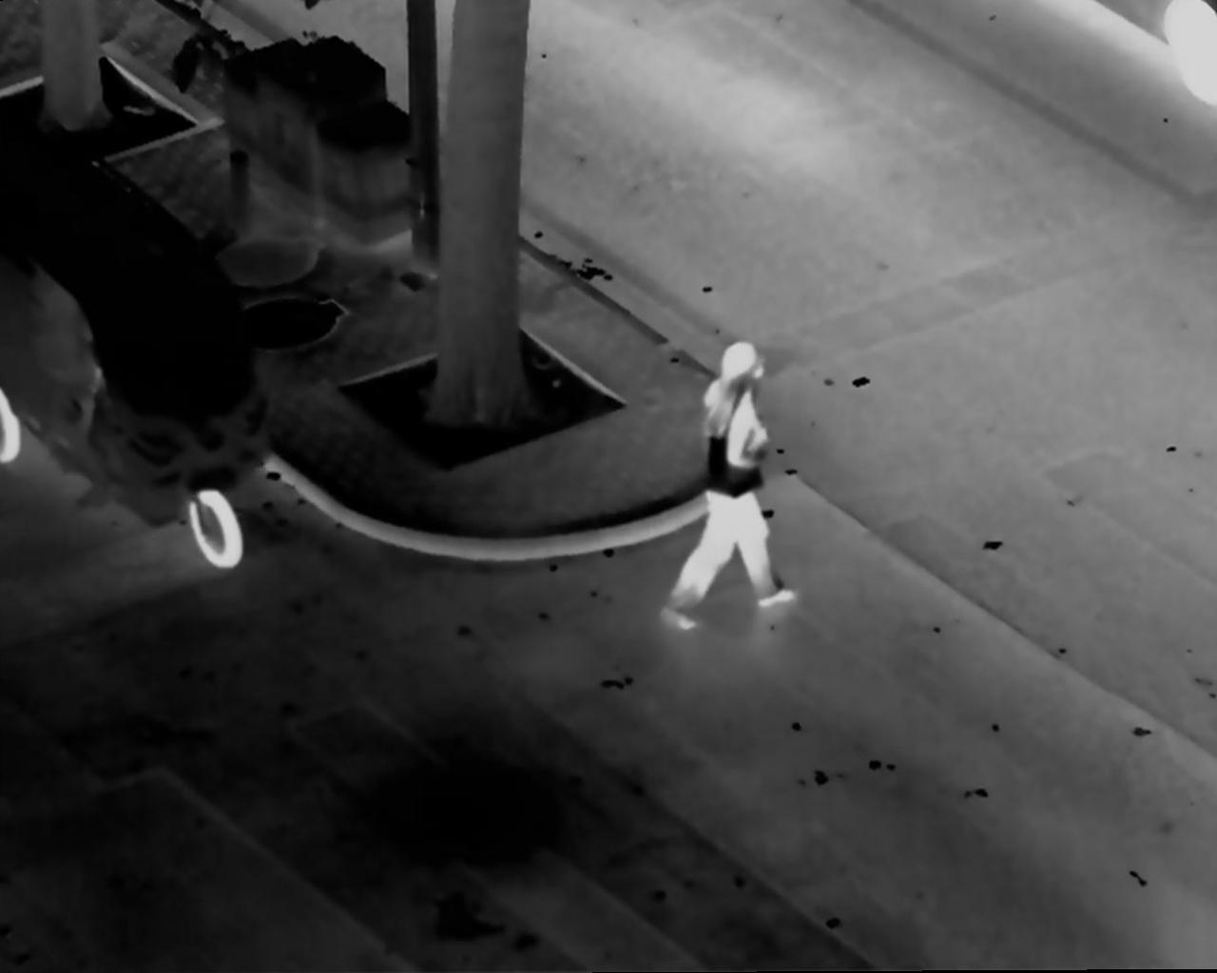person: (666, 341, 807, 631)
